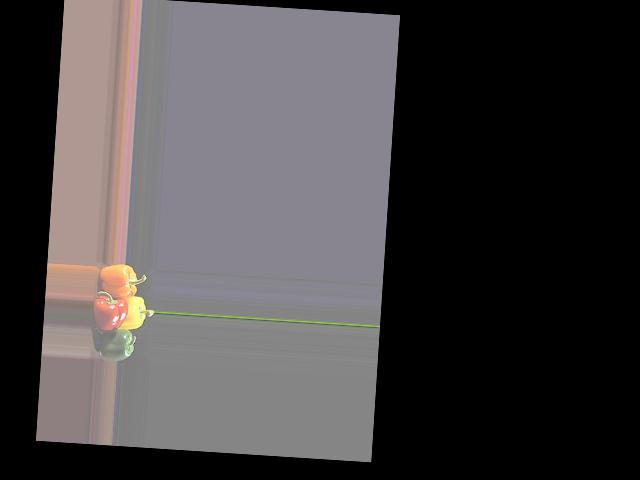bell_pepper: (92, 262, 142, 300)
